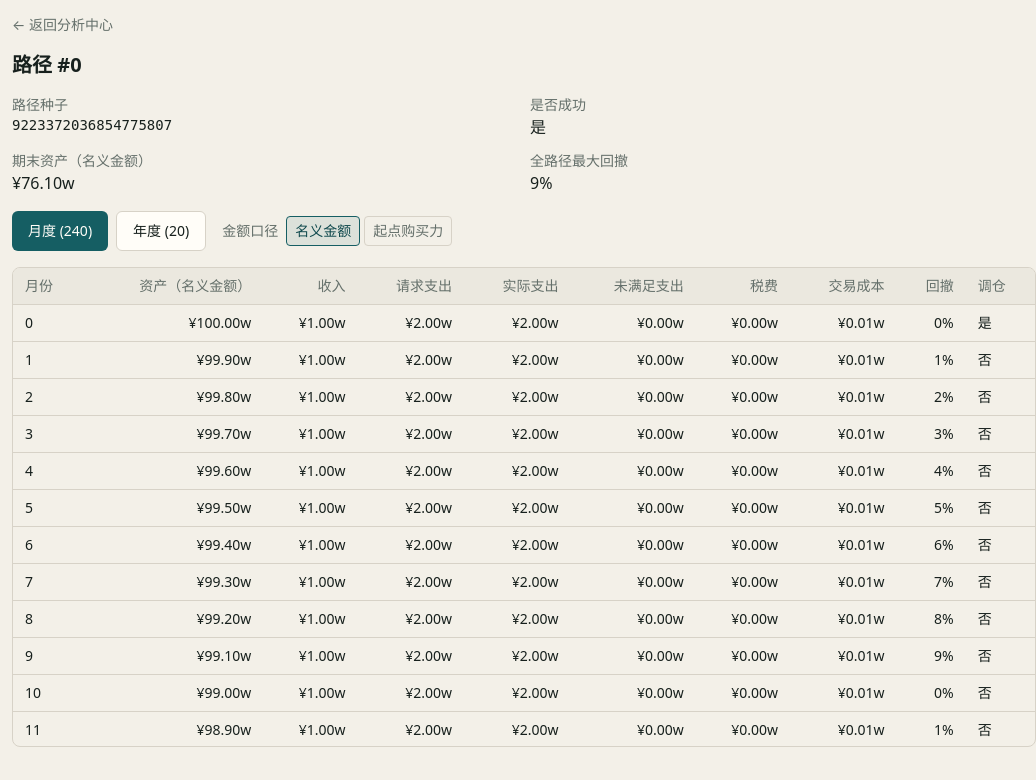
Test: PathDetailPage › shows all monthly rows and yearly design fields
Expected: the button "月度 (240)" is shown, left=12, top=211, right=108, bottom=251
Expected: the text "9223372036854775807" is shown, left=12, top=117, right=172, bottom=133
Click the button "年度 (20)".
click(161, 231)  # box left=116, top=211, right=206, bottom=251
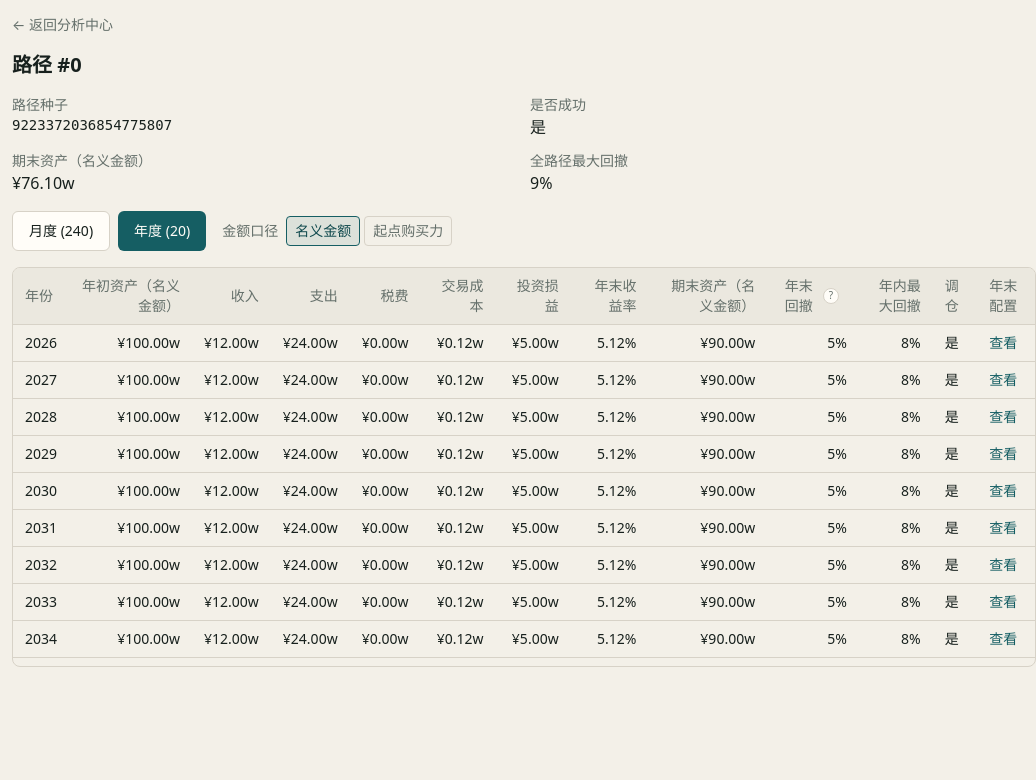
Expected: the column heading "投资损益" is shown, left=496, top=268, right=571, bottom=324
Expected: the column heading "年内最大回撤" is shown, left=859, top=268, right=933, bottom=324
Expected: the column heading "年末收益率" is shown, left=571, top=268, right=648, bottom=324
